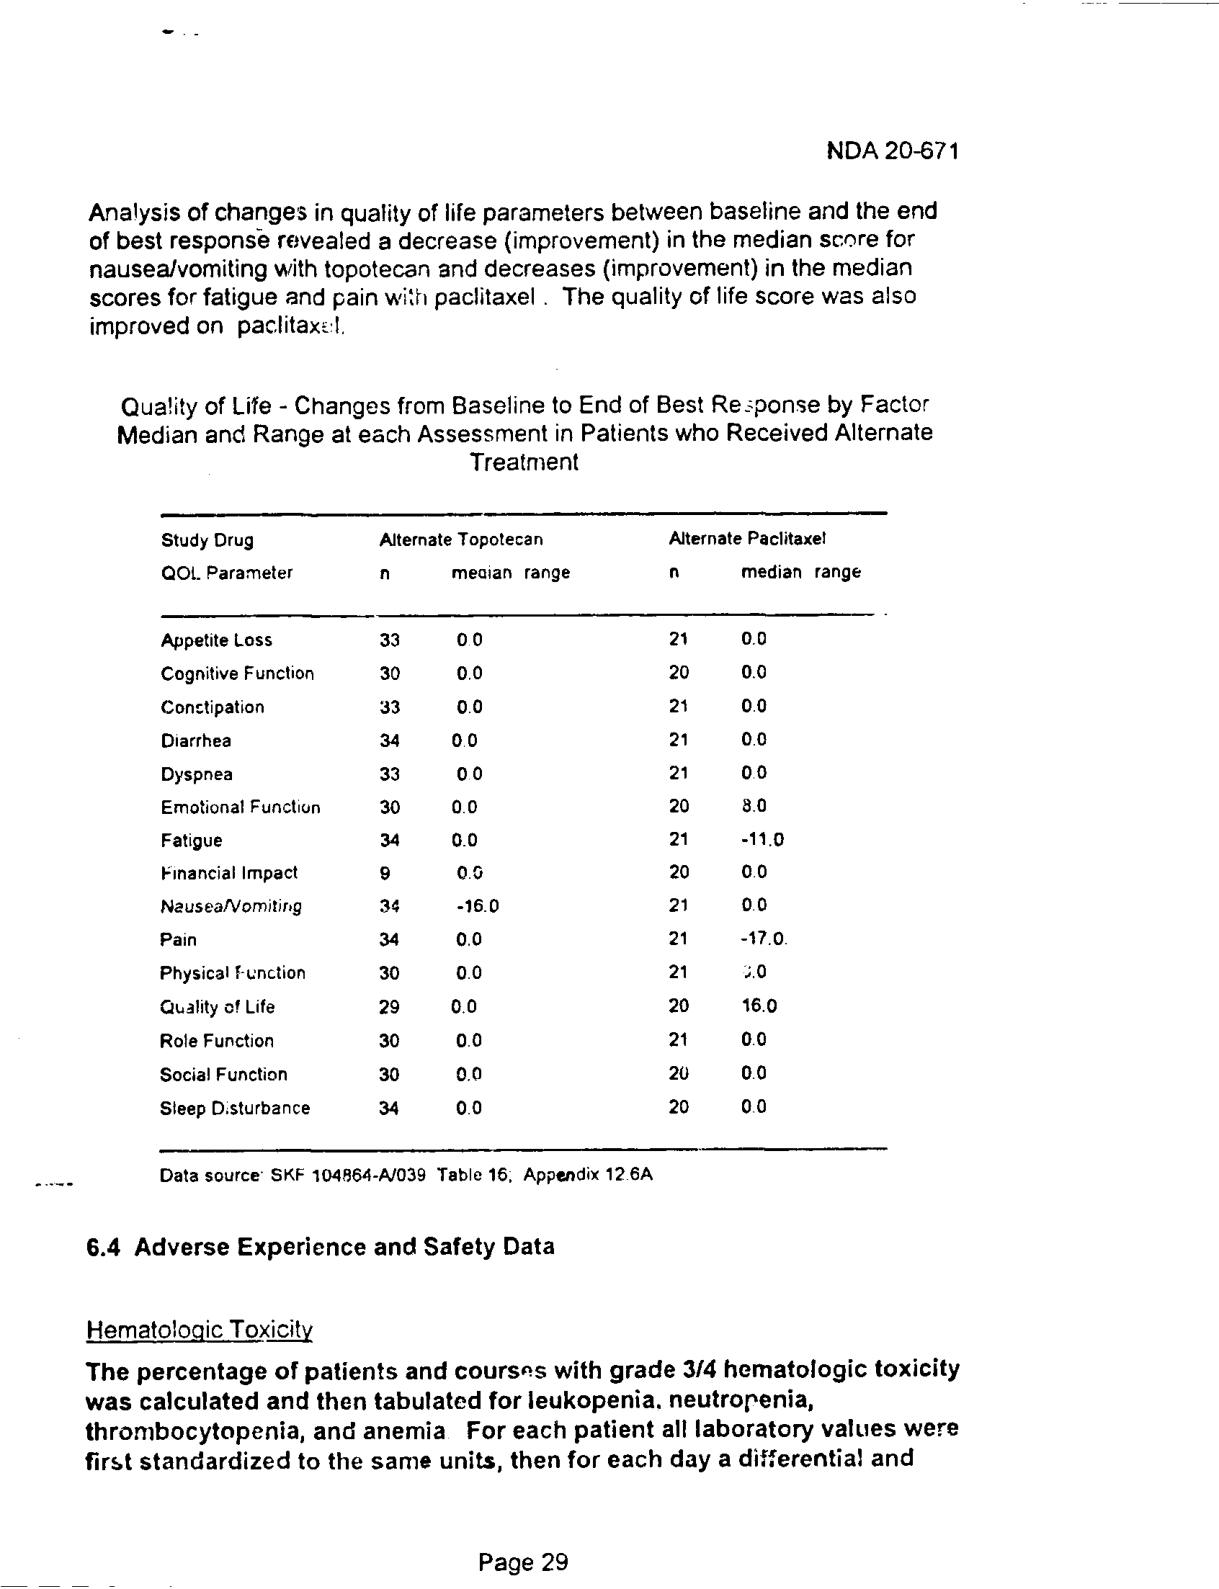partial_lined_merged_cells: (161, 511, 889, 1152)
